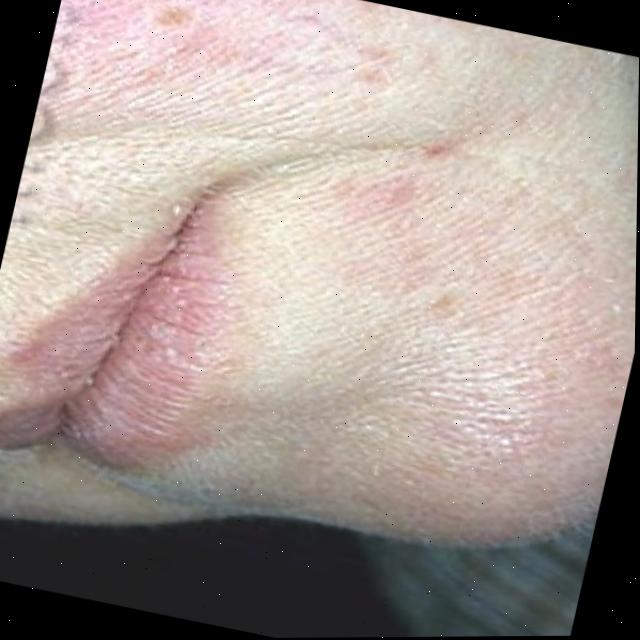Rosacea: (342, 178, 562, 391), (51, 0, 324, 94)
